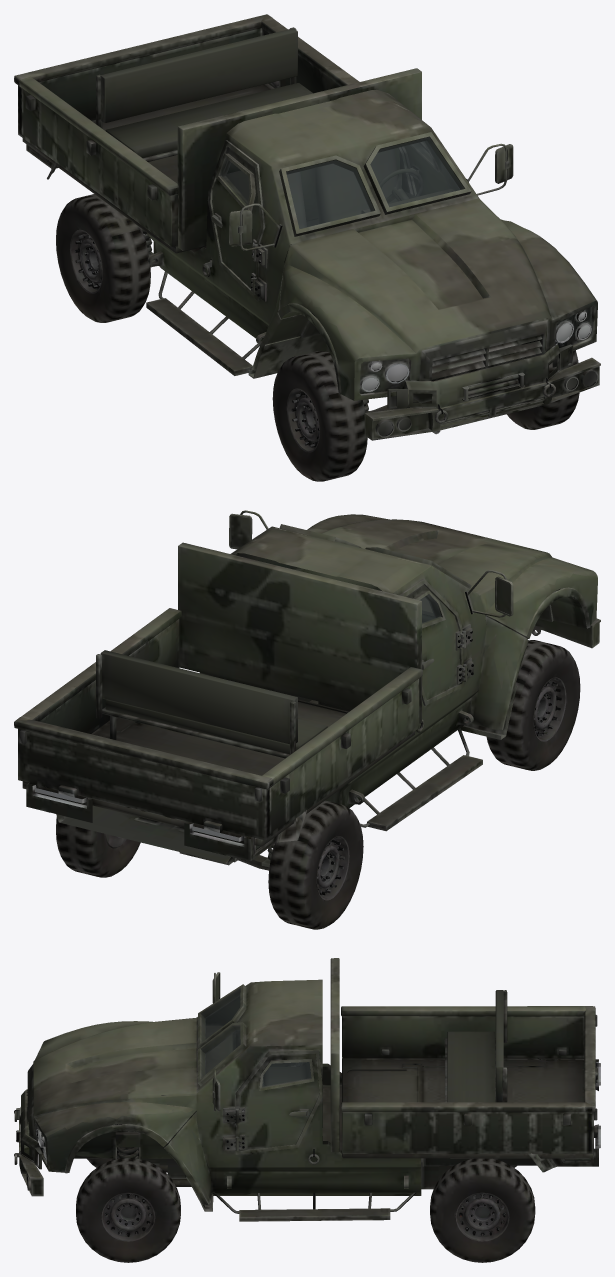
The model's file is truck.glb.
3 renders of one model, top to bottom at view 1: azimuth 30°, elevation 25°; view 2: azimuth 150°, elevation 25°; view 3: azimuth 270°, elevation 25°, orthographic. The views are drawn at different scales.
Visible parts, largest first — view 1: body, wheel_rr, wheel_fr, wheel_fl; view 2: body, wheel_rr, wheel_fr, wheel_rl; view 3: body, wheel_rl, wheel_fl.
Boxes of the visible parts, x1,y1,x2,y2 form: body: (14,14,600,440); wheel_rr: (56,194,150,322); wheel_fr: (272,351,367,481); wheel_fl: (507,350,579,429); body: (14,510,600,870); wheel_rr: (268,800,363,929); wheel_fr: (486,640,580,770); wheel_rl: (56,816,140,877); body: (14,958,600,1221); wheel_rl: (430,1158,535,1262); wheel_fl: (76,1158,180,1262).
Bounding box in the file's own units: 2.34 × 2.03 × 5.14.
2 materials, 1 textured.
